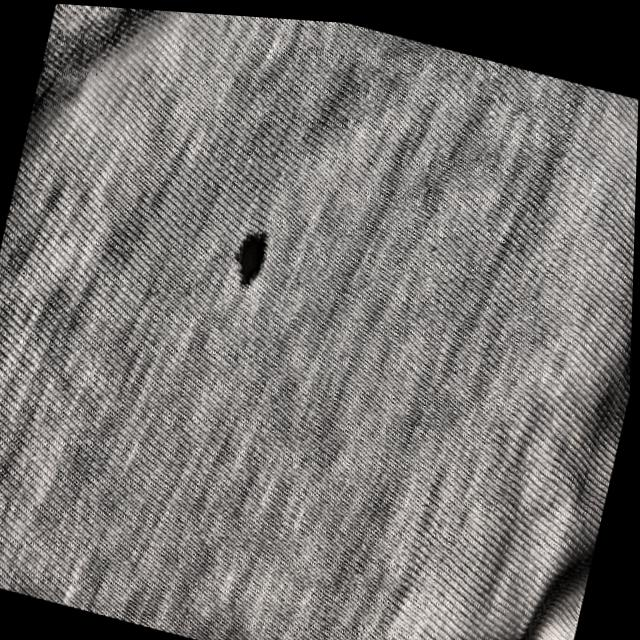Hole: (222, 205, 284, 305)
